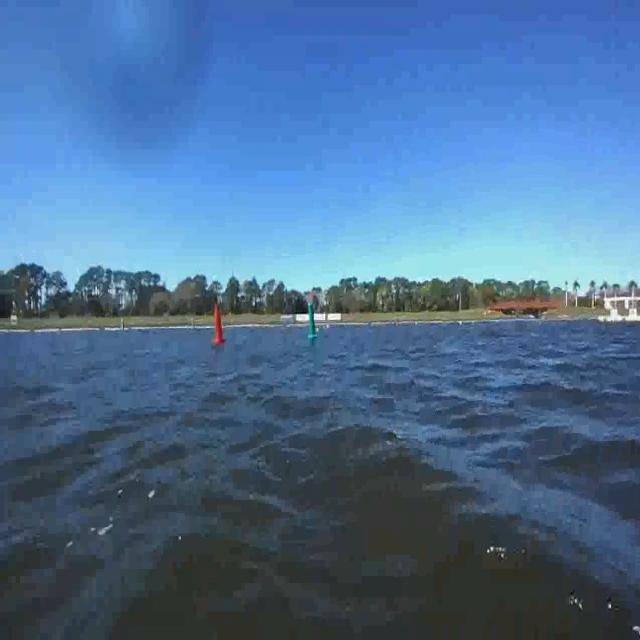green-column-buoy: (304, 291, 319, 346)
red-column-buoy: (203, 291, 225, 359)
